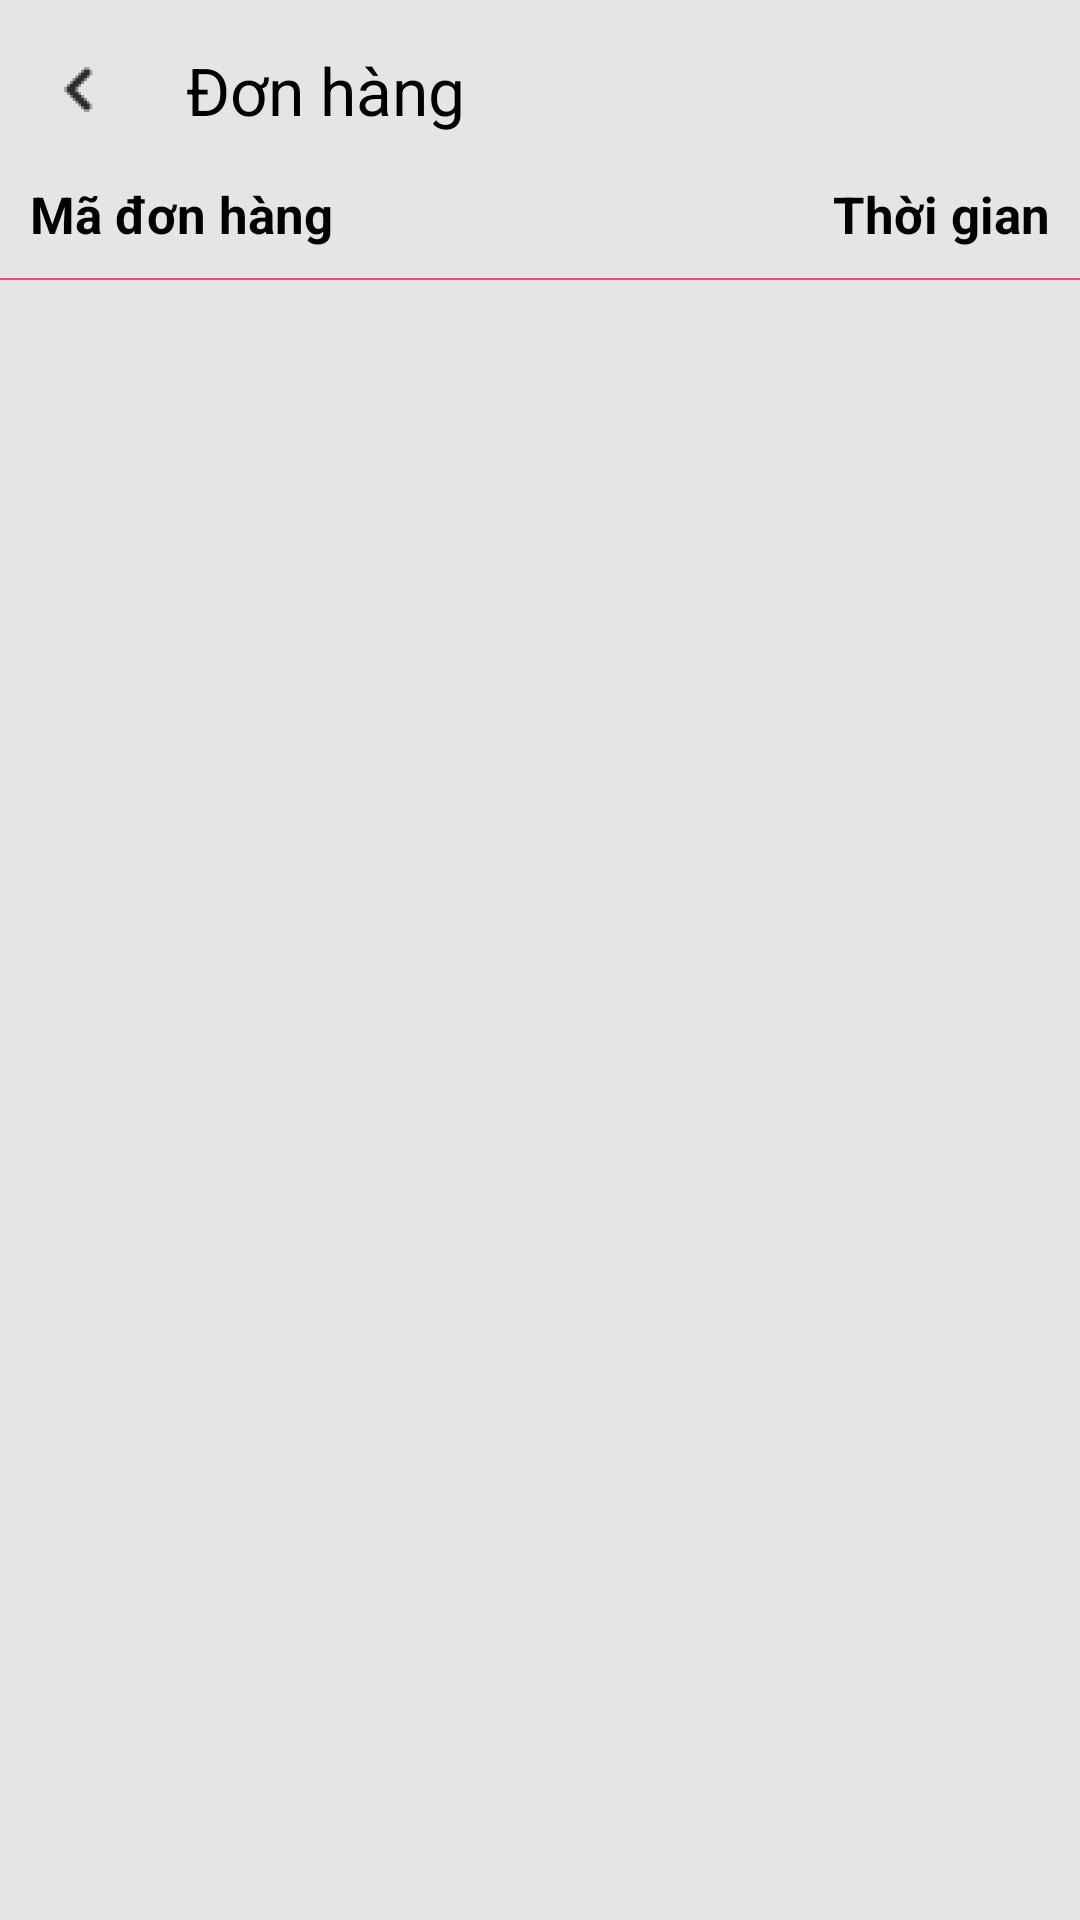

Icons on this 1080*1920 Android screen, each with the point to tap as (x,y):
back: (78,89)
